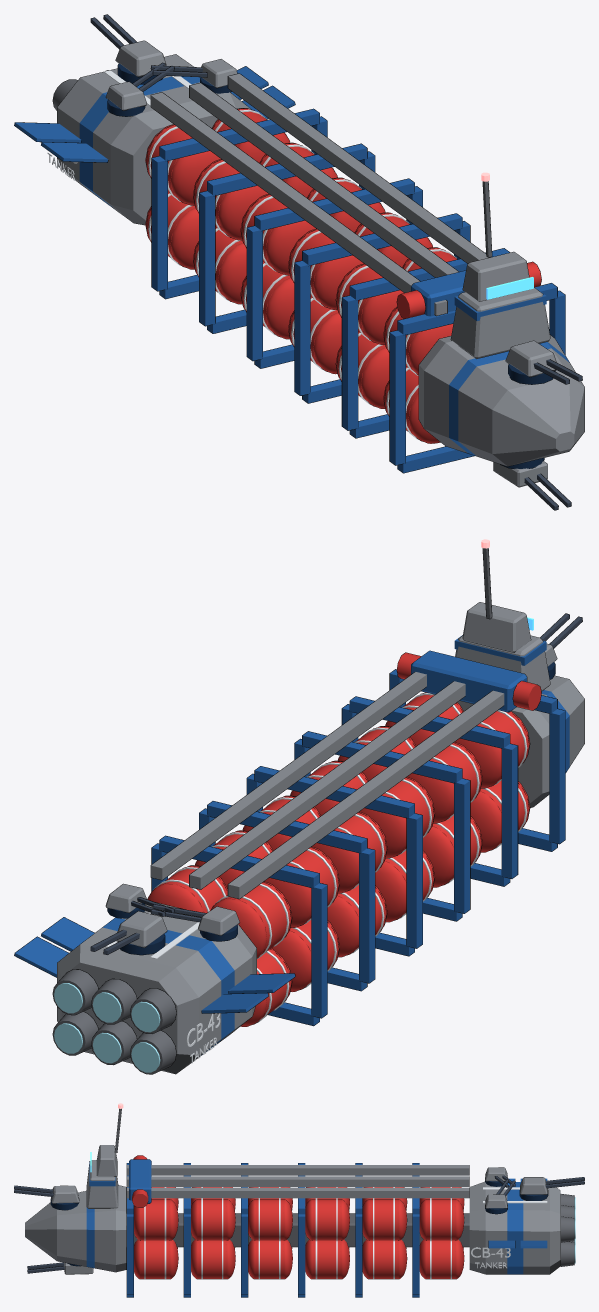
The model's file is Cargo_Capital_Tanker.fbx.
The picture shows the model from 3 angles, top to bottom: view 1: azimuth 30°, elevation 25°; view 2: azimuth 150°, elevation 25°; view 3: azimuth 270°, elevation 25°; orthographic projection. The views are drawn at different scales.
Visible parts, largest first — view 1: Bow.002, Engine.002, Pipe-17.5, Pipe0, Pipe17.5, TankFrame0, Bridge_A.002, TankFrame3, TankFrame4, TankFrame5, TankFrame2, TankFrame1 (+32 smaller); view 2: Engine.002, Pipe-17.5, Pipe0, Pipe17.5, TankFrame5, TankFrame1, TankFrame4, TankFrame2, TankFrame3, Bow.002, Manifold, TankFrame0 (+43 smaller); view 3: Engine.002, Bow.002, Pipe17.5, Pipe-17.5, Pipe0, Spine.002, Tank33, Tank43, Tank53, Tank01, Tank31, Tank03 (+42 smaller).
Part boxes in pixels (x1=…): Bow.002: x1=418, y1=334, x2=584, y2=466; Engine.002: x1=57, y1=54, x2=251, y2=225; Pipe-17.5: x1=150, y1=92, x2=447, y2=316; Pipe0: x1=189, y1=82, x2=458, y2=277; Pipe17.5: x1=227, y1=73, x2=488, y2=263; TankFrame0: x1=389, y1=283, x2=565, y2=473; Bridge_A.002: x1=450, y1=287, x2=550, y2=358; TankFrame3: x1=246, y1=178, x2=422, y2=368; TankFrame4: x1=199, y1=143, x2=375, y2=333; TankFrame5: x1=151, y1=108, x2=327, y2=299; TankFrame2: x1=294, y1=213, x2=470, y2=403; TankFrame1: x1=341, y1=248, x2=509, y2=438; Engine.002: x1=57, y1=902, x2=256, y2=1074; Pipe-17.5: x1=227, y1=690, x2=504, y2=899; Pipe0: x1=189, y1=681, x2=465, y2=889; Pipe17.5: x1=150, y1=671, x2=426, y2=880; TankFrame5: x1=151, y1=835, x2=327, y2=1026; TankFrame1: x1=341, y1=696, x2=518, y2=886; TankFrame4: x1=199, y1=801, x2=375, y2=991; TankFrame2: x1=294, y1=731, x2=470, y2=921; TankFrame3: x1=246, y1=766, x2=422, y2=956; Bow.002: x1=457, y1=675, x2=584, y2=807; Manifold: x1=411, y1=650, x2=527, y2=712; TankFrame0: x1=389, y1=669, x2=565, y2=851; Engine.002: x1=469, y1=1181, x2=560, y2=1274; Bow.002: x1=25, y1=1185, x2=126, y2=1272; Pipe17.5: x1=126, y1=1187, x2=469, y2=1198; Pipe-17.5: x1=126, y1=1165, x2=469, y2=1175; Pipe0: x1=126, y1=1176, x2=469, y2=1186; Spine.002: x1=126, y1=1213, x2=469, y2=1247; Tank33: x1=312, y1=1199, x2=341, y2=1240; Tank43: x1=369, y1=1199, x2=398, y2=1240; Tank53: x1=426, y1=1199, x2=455, y2=1240; Tank01: x1=140, y1=1240, x2=169, y2=1279; Tank31: x1=312, y1=1240, x2=341, y2=1279; Tank03: x1=140, y1=1199, x2=169, y2=1240.
Size of the model in its own units: 105 by 123 by 373.
